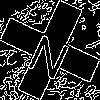N: (25, 25, 77, 82)
